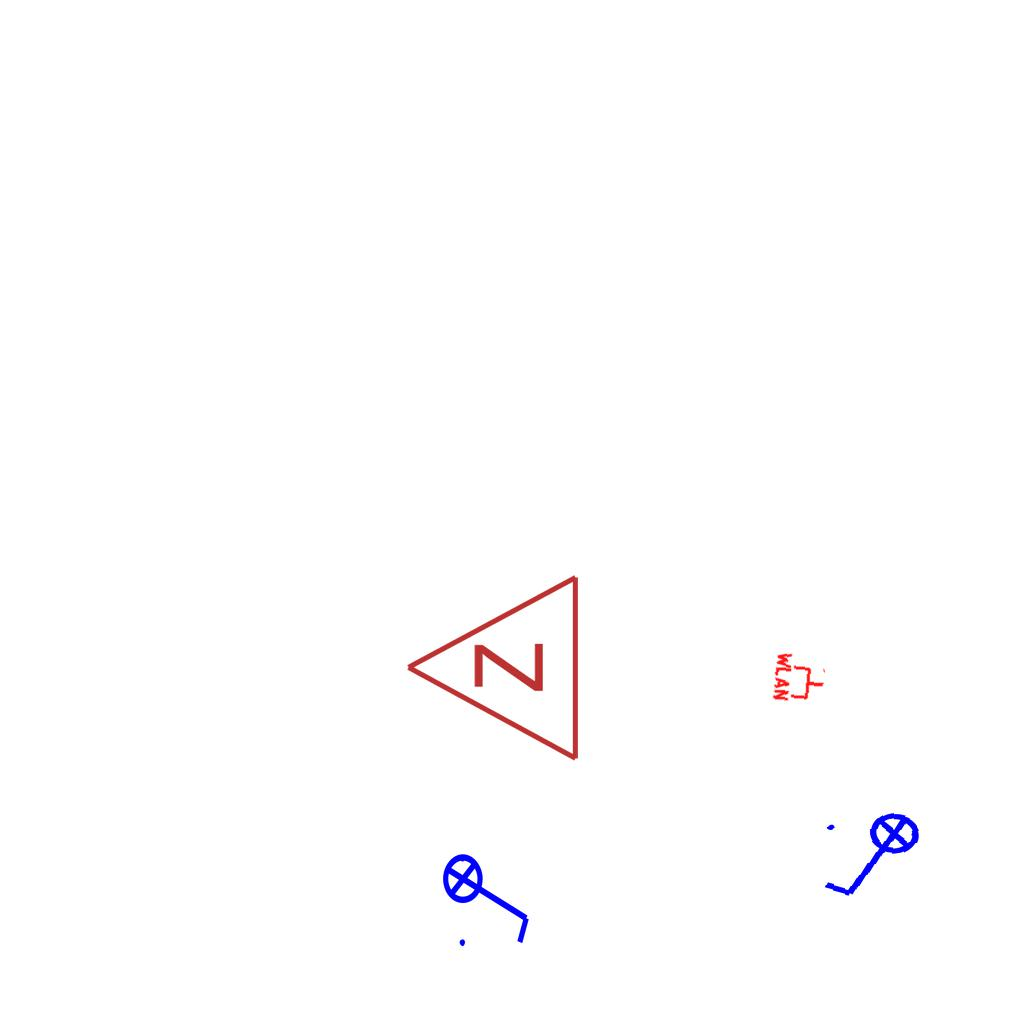Ausschalter_beleuchtet: (815, 805, 935, 911), (441, 840, 537, 952)
WLAN: (771, 649, 829, 707)
Zimmersignalleuchte: (393, 572, 593, 768)
